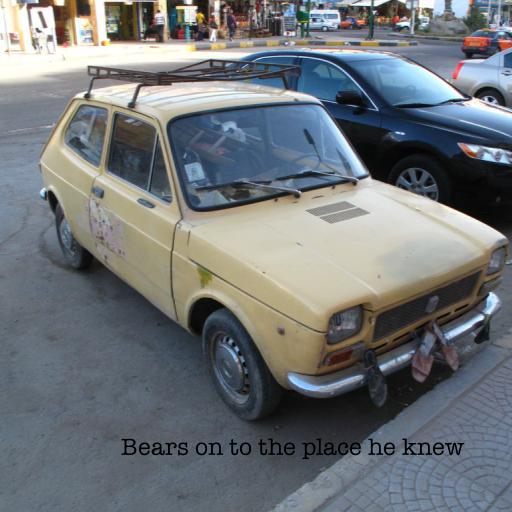American Typewriter: (120, 438, 464, 460)
